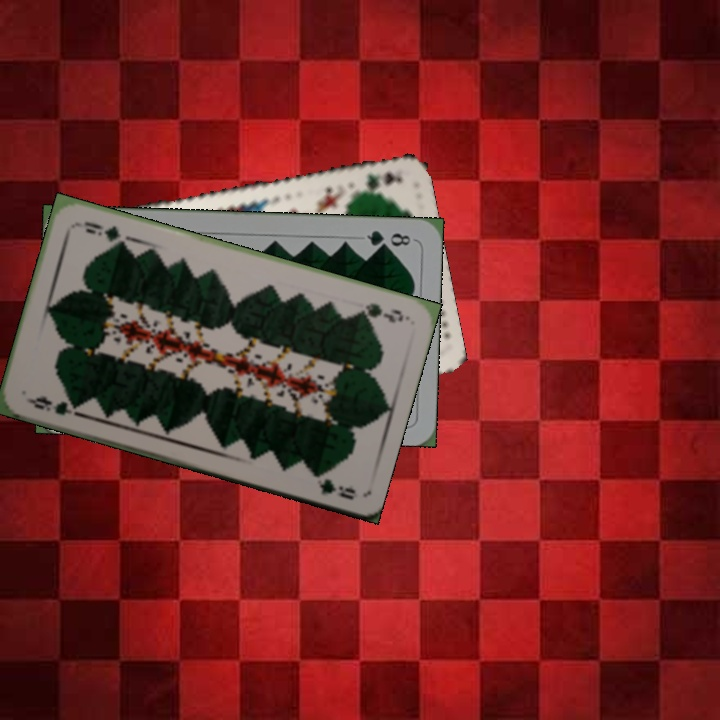G8: (362, 226, 413, 251)
G9: (353, 298, 410, 326), (23, 392, 83, 418)
GK: (362, 168, 404, 192)
